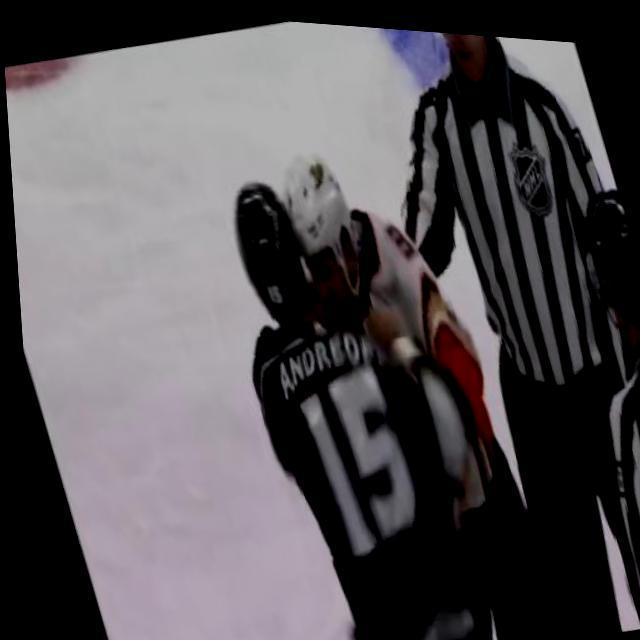fight: (178, 116, 560, 640)
